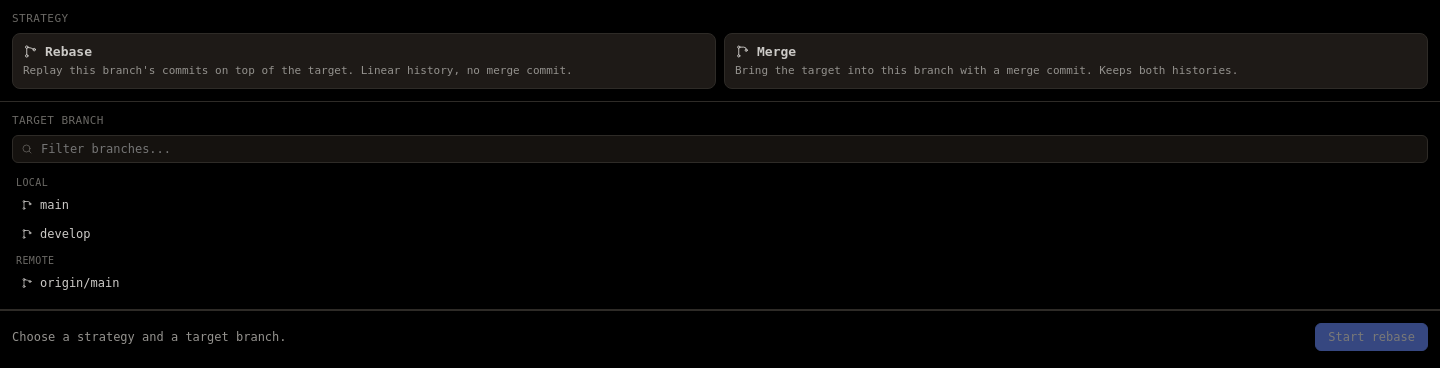
it: MergeRebaseView › choosing what to run › refuses to run before a strategy and a target are chosen
Check: the button "Start rebase" is disabled, box [1315,323,1428,351]
Click the button with class "mr-card" that starts with "Rebase": (364, 61) [12,33,716,89]
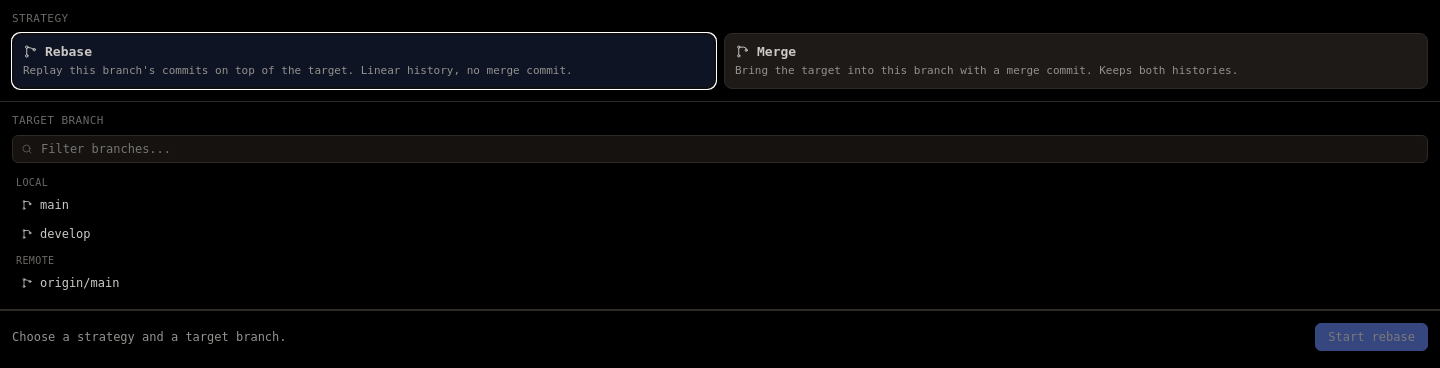
Check: the button "Start rebase" is disabled, box [1315,323,1428,351]
Click the button with class "mr-branch" showing "main": (27, 205) [12,191,1428,219]
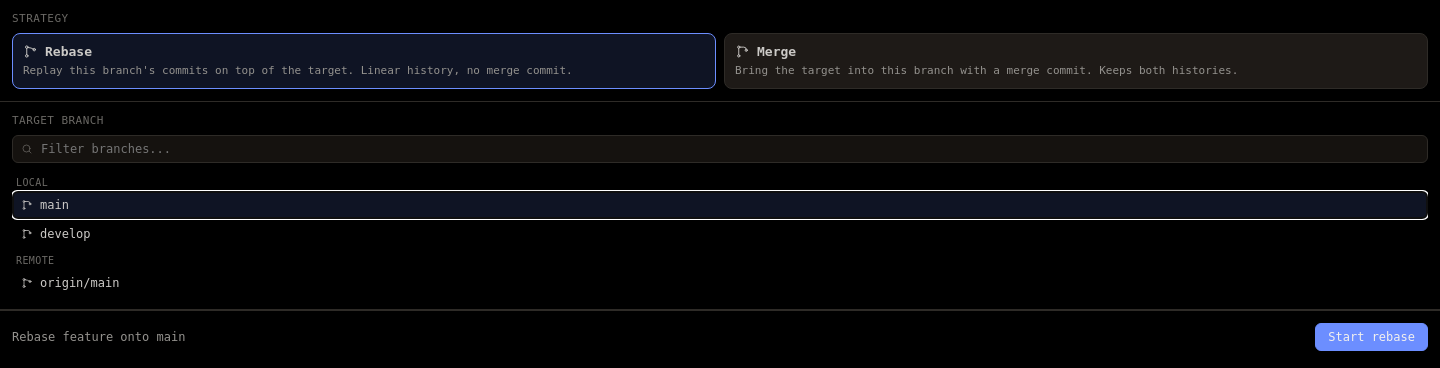
Check: the button "Start rebase" is enabled, box [1315,323,1428,351]
